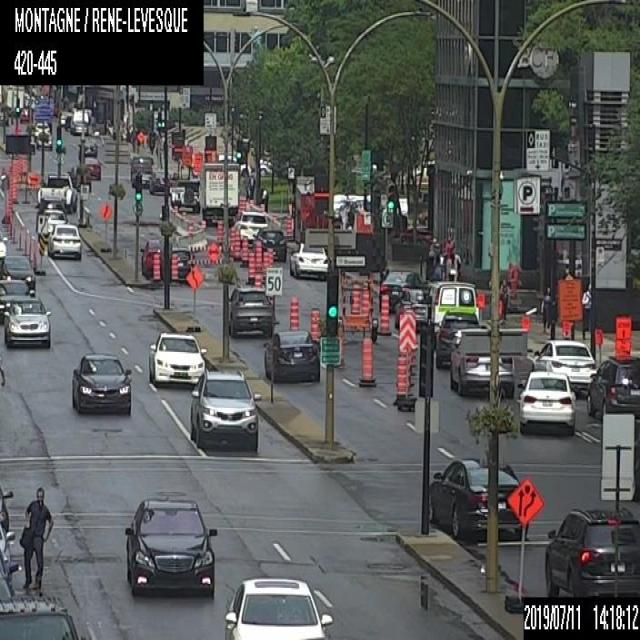construction: (335, 231, 390, 339), (508, 473, 536, 611), (396, 308, 415, 409), (557, 270, 579, 336), (5, 132, 32, 174), (358, 336, 378, 387), (186, 265, 200, 329), (394, 350, 408, 406), (615, 314, 632, 357), (21, 171, 43, 203), (377, 290, 392, 334), (101, 203, 111, 252), (361, 286, 371, 330), (349, 284, 358, 328), (476, 289, 486, 328), (594, 326, 604, 361), (523, 316, 532, 354), (234, 194, 247, 218), (288, 297, 297, 328), (193, 152, 203, 178), (181, 144, 192, 167), (310, 309, 318, 340), (151, 252, 160, 279), (207, 242, 219, 262), (170, 253, 179, 279), (241, 233, 248, 264), (229, 226, 236, 256), (263, 252, 270, 282), (6, 188, 12, 222), (12, 170, 18, 203), (248, 250, 254, 282), (235, 230, 241, 262), (255, 241, 261, 272), (217, 219, 223, 250), (136, 130, 144, 152), (253, 270, 262, 286), (284, 216, 291, 235), (8, 177, 12, 190)
pedestrian: (17, 485, 53, 595), (540, 286, 552, 334), (580, 284, 591, 331), (499, 274, 508, 318)
vehicle: (124, 497, 217, 596), (543, 504, 639, 596), (428, 453, 526, 543), (222, 576, 334, 639), (189, 368, 263, 451), (452, 326, 513, 400), (70, 350, 131, 414), (0, 593, 85, 638), (518, 370, 574, 434), (531, 339, 595, 394), (147, 331, 207, 387), (588, 355, 639, 416), (265, 329, 320, 383), (426, 280, 478, 336), (435, 306, 480, 366), (3, 296, 51, 349), (199, 162, 239, 224), (228, 285, 274, 336), (381, 268, 422, 310), (37, 170, 76, 213), (394, 288, 430, 332), (288, 239, 326, 280), (0, 277, 31, 323), (0, 255, 35, 295), (252, 224, 286, 260), (235, 208, 269, 244), (48, 224, 81, 258), (36, 206, 66, 241), (169, 178, 199, 212), (169, 244, 192, 282), (140, 239, 161, 277), (36, 197, 67, 222), (67, 163, 91, 190), (0, 547, 17, 585), (0, 485, 14, 531), (0, 523, 15, 561), (130, 154, 151, 180), (149, 167, 172, 190), (0, 566, 15, 597), (76, 138, 98, 158), (131, 168, 152, 188), (78, 160, 100, 179), (70, 109, 88, 130), (36, 132, 51, 150), (32, 121, 48, 137), (19, 106, 32, 122), (72, 120, 88, 133), (0, 164, 7, 188), (0, 231, 6, 257), (59, 111, 70, 125), (0, 111, 8, 125), (64, 114, 71, 129)
